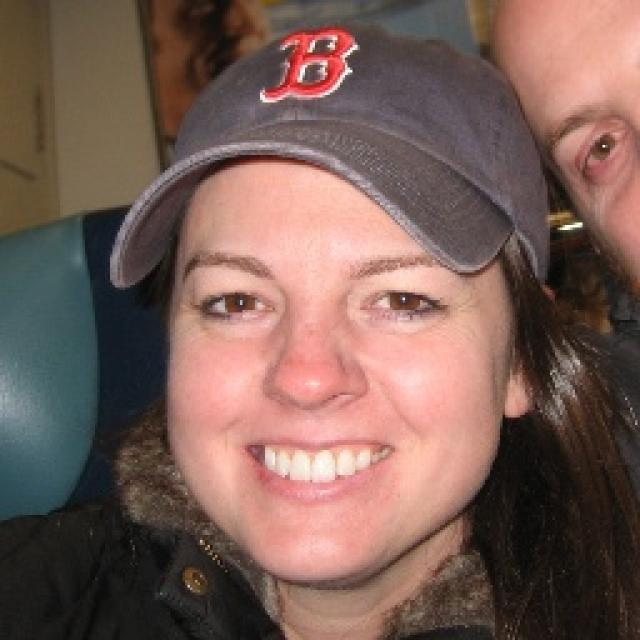earlobe: (502, 374, 537, 419)
eye: (204, 287, 275, 319), (362, 288, 442, 316), (581, 127, 629, 171)
nose: (261, 387, 363, 430)
